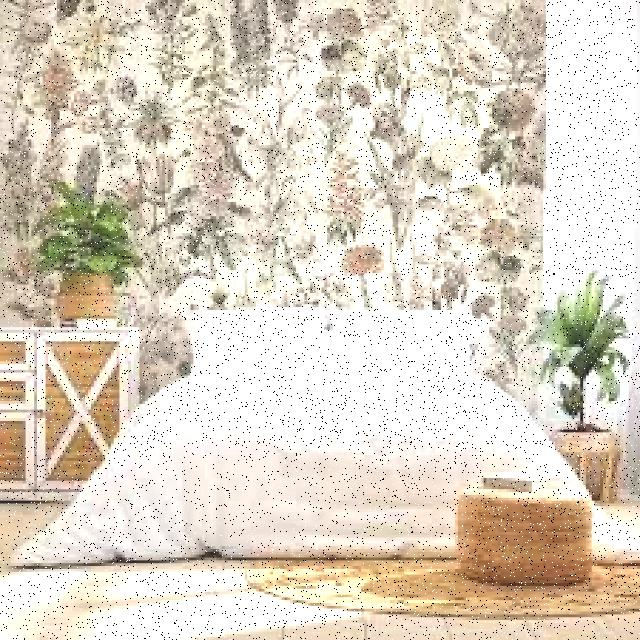bed: (100, 299, 566, 543)
